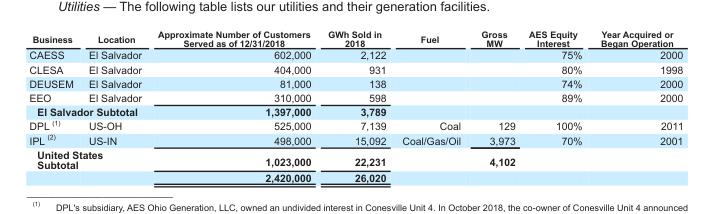table: (28, 28, 682, 183)
table column: (148, 28, 318, 183), (590, 28, 682, 183), (393, 28, 470, 183), (318, 28, 393, 183), (521, 28, 590, 183), (80, 28, 148, 183), (28, 28, 80, 183), (470, 28, 521, 183)
table column header: (28, 28, 682, 48)
table row: (28, 147, 682, 169), (28, 28, 682, 48), (28, 61, 682, 76), (28, 117, 682, 132), (28, 132, 682, 147), (28, 76, 682, 90), (28, 90, 682, 104), (28, 169, 682, 183), (28, 48, 682, 61), (28, 104, 682, 117)
table spanning cell: (28, 147, 148, 183), (28, 104, 148, 117)
